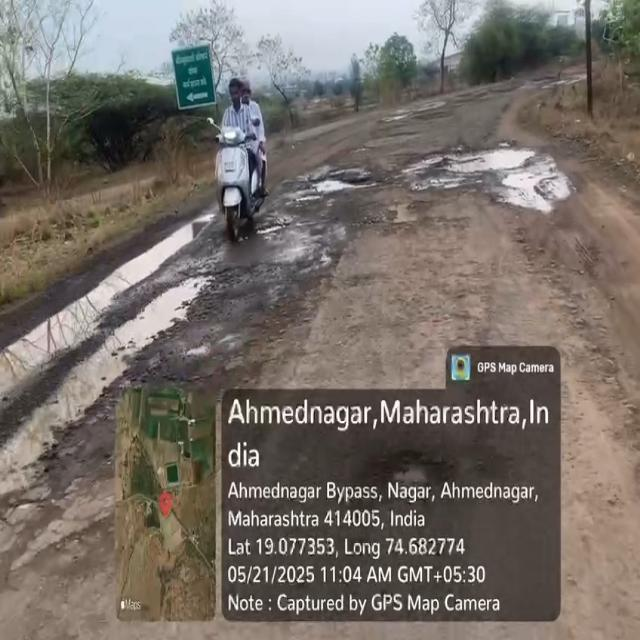pothole: (3, 280, 229, 376), (3, 382, 102, 509), (412, 140, 564, 222), (120, 210, 217, 268), (293, 170, 384, 206)
